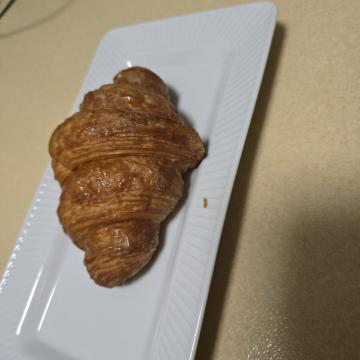croissant: (55, 148, 307, 327)
